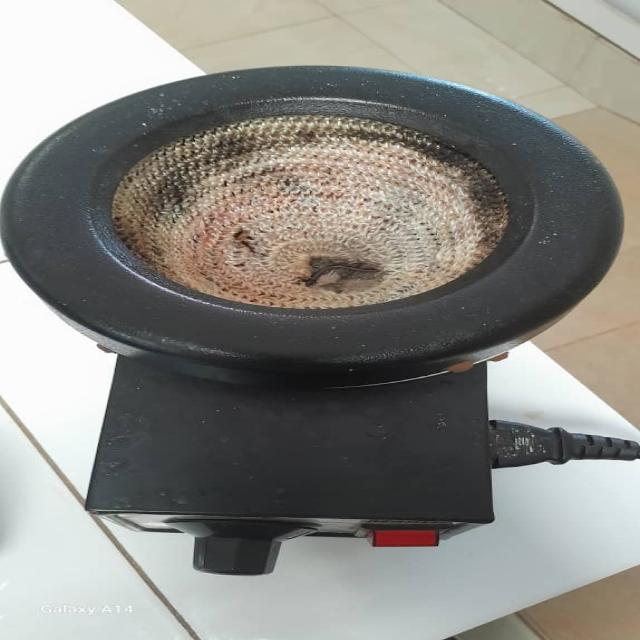Heating Source: (7, 65, 624, 572)
